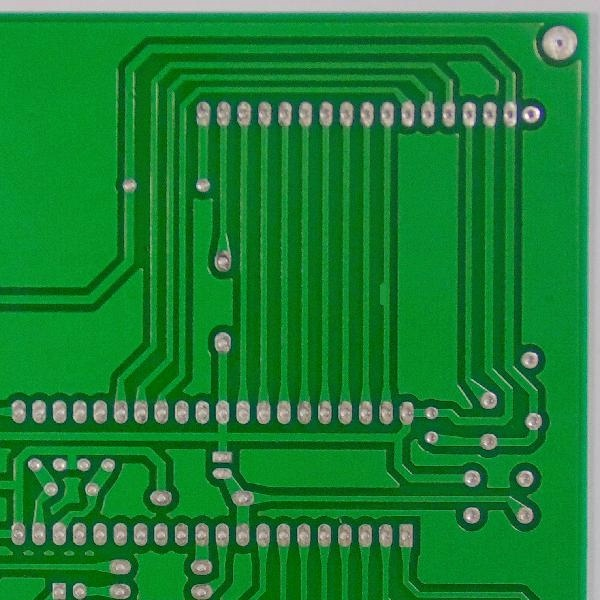spur: (377, 276, 393, 309)
